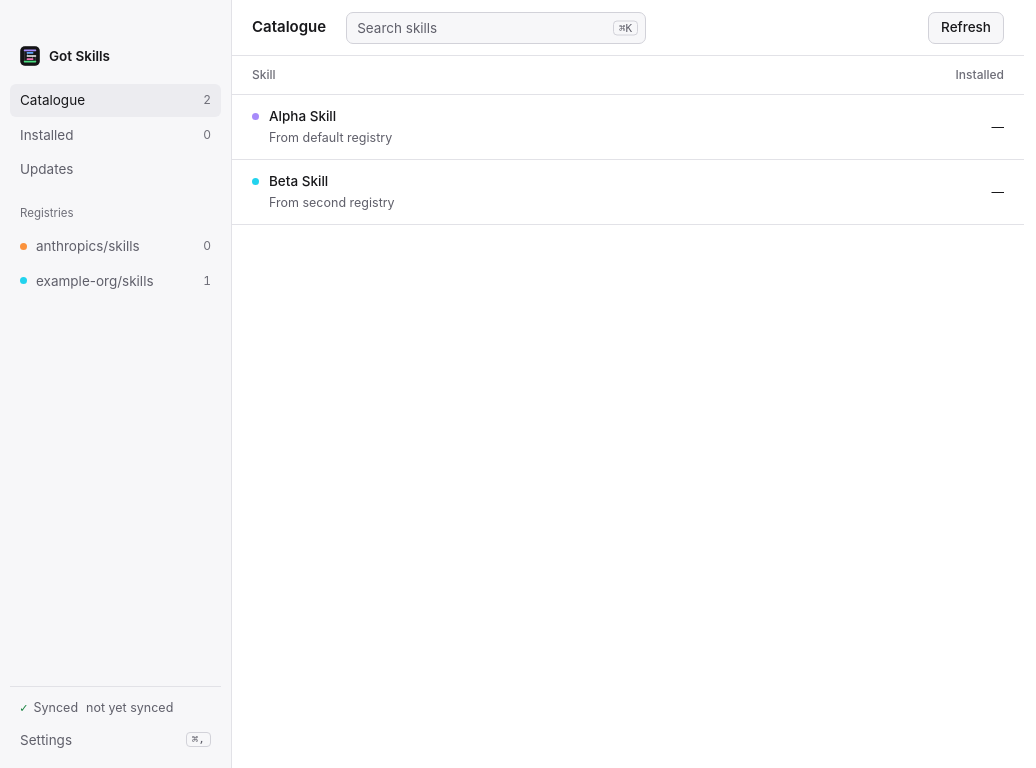
it: App shell › filters the catalogue by registry when multiple registries are configured
The image size is (1036, 768).
expect the text "Alpha Skill" is shown: met, box [269,106,336,126]
Click the button "example-org/skills 1": (116, 281) [10,264,221,297]
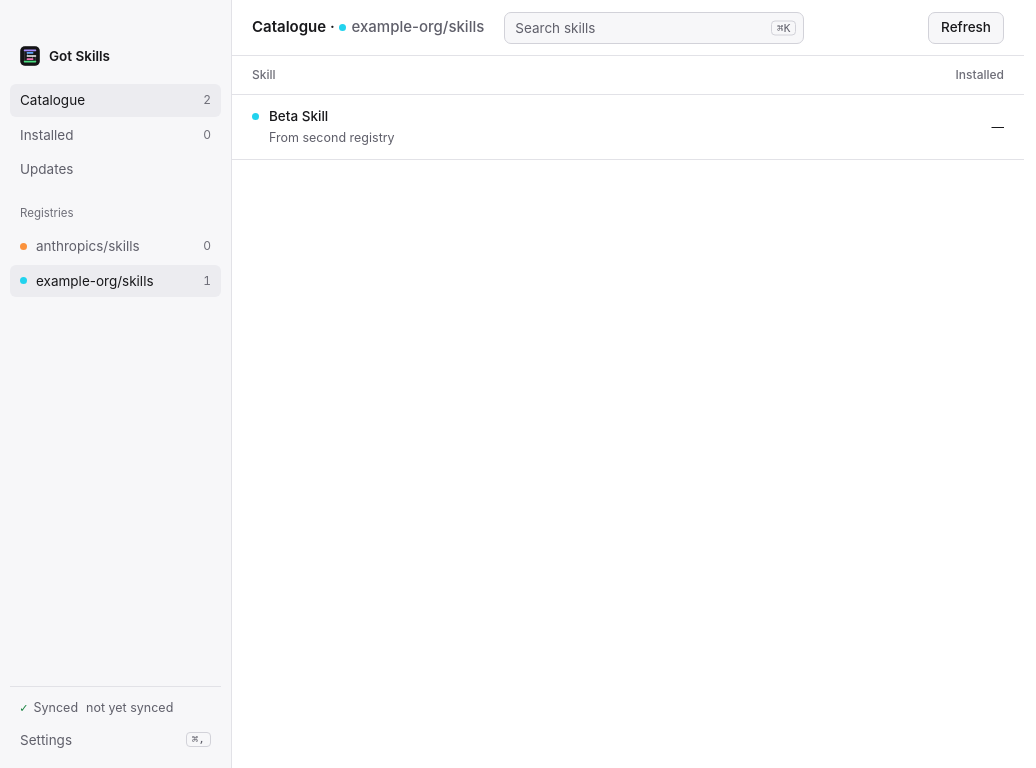
expect the text "Beta Skill" is shown: met, box [269,106,328,126]
expect the option "Alpha Skill" is gone: met
